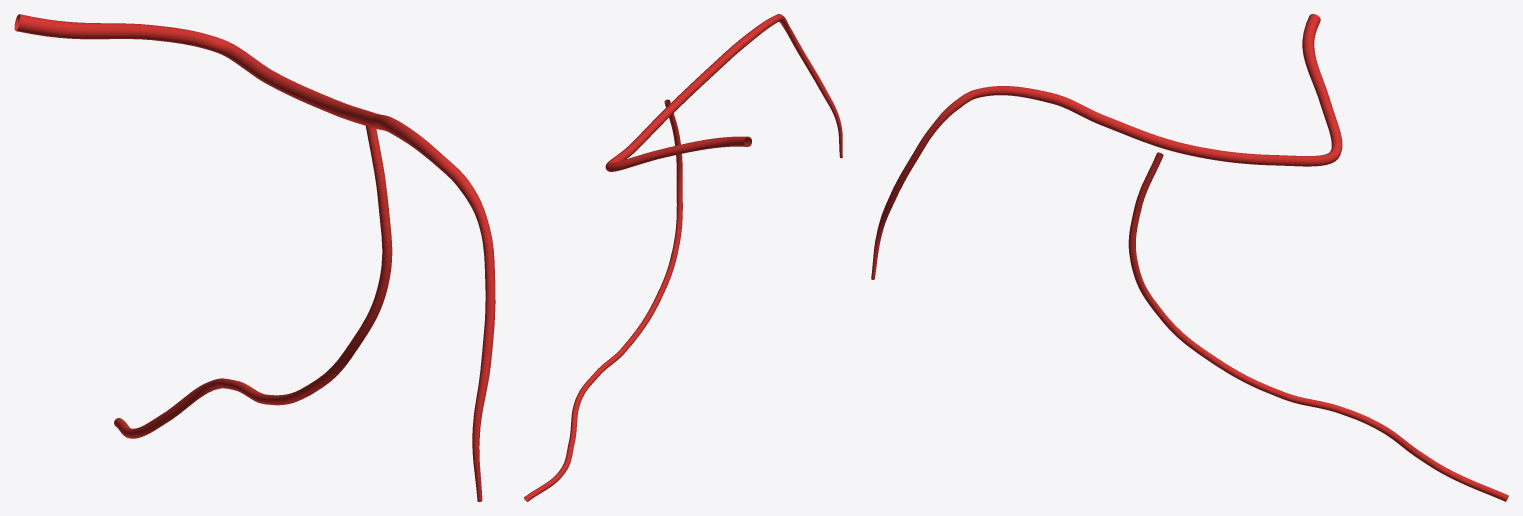
Rendered from circulatorio-anterior-ethmoidal-artery-r.glb.
The picture shows the model from 3 angles, left to right: view 1: azimuth 30°, elevation 25°; view 2: azimuth 150°, elevation 25°; view 3: azimuth 270°, elevation 25°; orthographic projection. The views are drawn at different scales.
Visible parts, largest first — view 1: Anterior ethmoidal artery.r, Anterior septal branches of anterior ethmoidal artery.r; view 2: Anterior ethmoidal artery.r, Anterior septal branches of anterior ethmoidal artery.r; view 3: Anterior ethmoidal artery.r, Anterior septal branches of anterior ethmoidal artery.r.
Boxes of the visible parts, x1,y1,x2,y2 form: Anterior ethmoidal artery.r: (14, 14, 495, 501); Anterior septal branches of anterior ethmoidal artery.r: (114, 126, 392, 438); Anterior ethmoidal artery.r: (605, 14, 842, 171); Anterior septal branches of anterior ethmoidal artery.r: (524, 99, 682, 501); Anterior ethmoidal artery.r: (871, 14, 1342, 279); Anterior septal branches of anterior ethmoidal artery.r: (1128, 152, 1508, 501).
Size of the model in its own units: 0.0115 by 0.025 by 0.0355.
